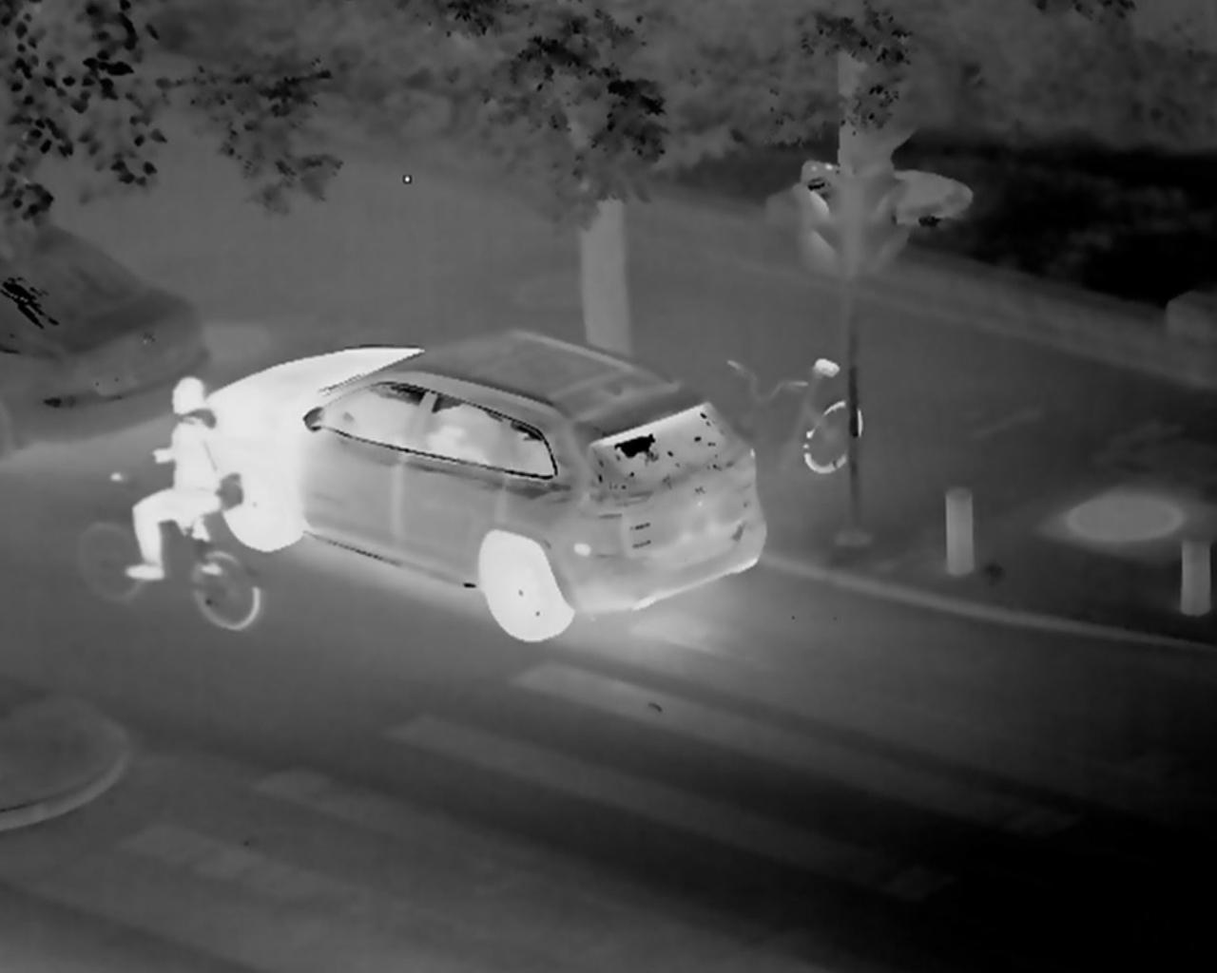person: (129, 377, 235, 583)
